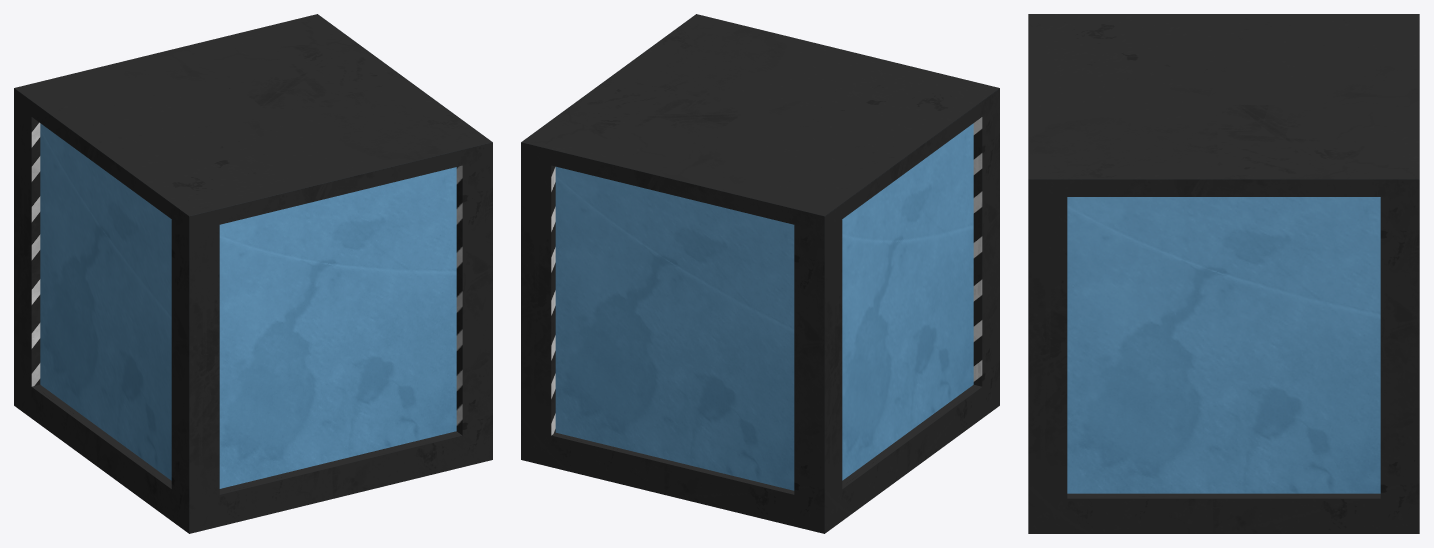
File: tutTrap.obj
The picture shows the model from 3 angles, left to right: view 1: azimuth 30°, elevation 25°; view 2: azimuth 150°, elevation 25°; view 3: azimuth 270°, elevation 25°; orthographic projection. The views are drawn at different scales.
Visible parts, largest first — view 1: Mesh1 initialShadingGroup1 polySurface1; view 2: Mesh1 initialShadingGroup1 polySurface1; view 3: Mesh1 initialShadingGroup1 polySurface1.
Boxes of the visible parts, x1,y1,x2,y2 form: Mesh1 initialShadingGroup1 polySurface1: (14,14,492,533); Mesh1 initialShadingGroup1 polySurface1: (521,14,999,533); Mesh1 initialShadingGroup1 polySurface1: (1028,14,1419,533).
Bounding box in the file's own units: 2 × 2 × 2.
1 material, 1 textured.
